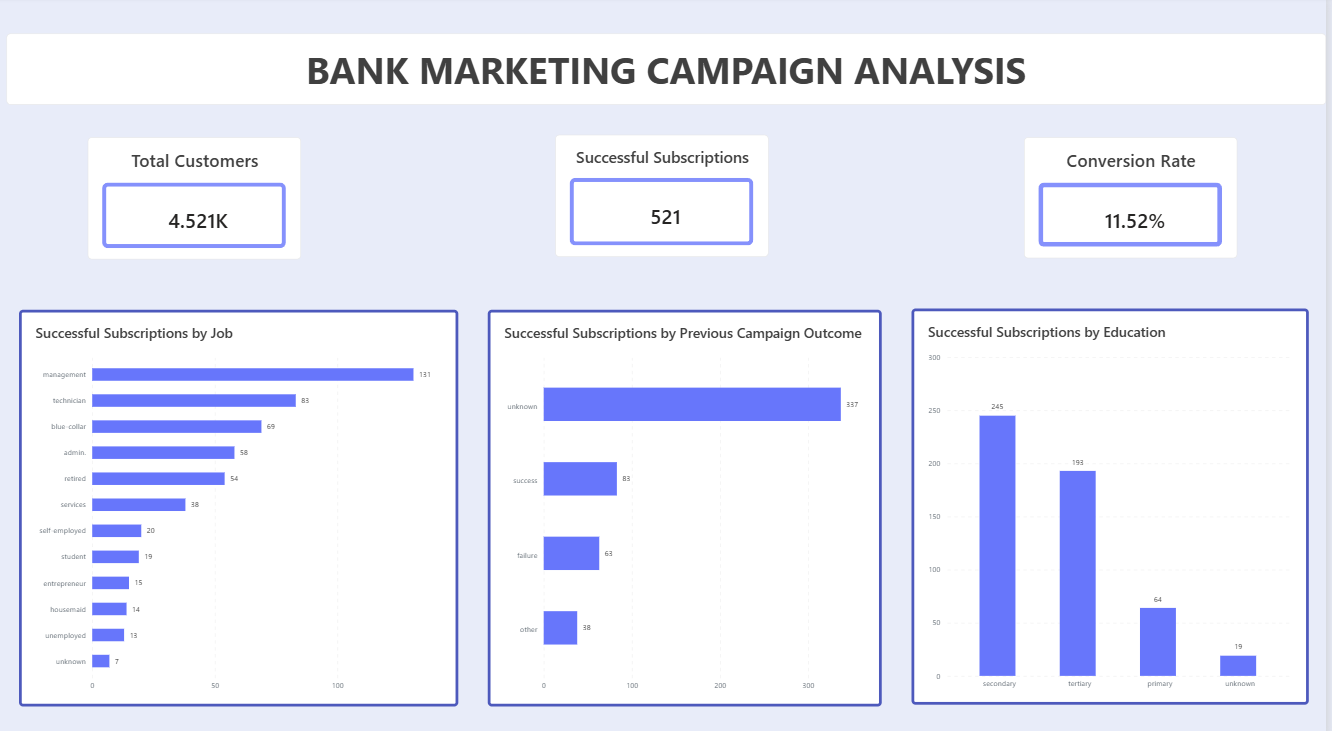

The page's visual inventory and layout, read from the dashboard file:
{"tool":"powerbi","page":{"name":"Page 1","canvas":[1920,1080],"ordinal":0},"visuals":[{"type":"cardVisual","title":"Total Customers","fields":{"Data":["CountNonNull(bank.age)"]},"box":[127.6,203.8,308.7,177],"z":0},{"type":"cardVisual","title":"Successful Subscriptions","fields":{"Data":["bank.Successful Subscriptions"]},"box":[804.8,201.7,308.7,177],"z":1},{"type":"cardVisual","title":"Conversion Rate","fields":{"Data":["bank.Conversion Rate"]},"box":[1484.1,203.8,308.7,175],"z":2},{"type":"clusteredBarChart","title":"Successful Subscriptions by Job","fields":{"Category":["bank.job"],"Y":["bank.Successful Subscriptions"]},"box":[28.5,453.7,636,574.3],"z":3},{"type":"clusteredColumnChart","title":"Successful Subscriptions by Education","fields":{"Category":["bank.education"],"Y":["bank.Successful Subscriptions"]},"box":[1321.1,452.4,575.5,573.7],"z":4},{"type":"clusteredBarChart","title":"Successful Subscriptions by Previous Campaign Outcome","fields":{"Category":["bank.poutcome"],"Y":["bank.Successful Subscriptions"]},"box":[707.6,454.2,570.2,574.3],"z":5},{"type":"textbox","box":[10.3,53.5,1910.1,102.9],"z":6}]}

Visuals, with their boxes in screenshot pixels (x1, y1, x2, y2), scaled from the page's 1920x1080 canvas onto the 1332x731 screenshot:
"Total Customers" cardVisual: rect(89, 138, 303, 258)
"Successful Subscriptions" cardVisual: rect(558, 137, 772, 256)
"Conversion Rate" cardVisual: rect(1030, 138, 1244, 256)
"Successful Subscriptions by Job" clusteredBarChart: rect(20, 307, 461, 696)
"Successful Subscriptions by Education" clusteredColumnChart: rect(917, 306, 1316, 695)
"Successful Subscriptions by Previous Campaign Outcome" clusteredBarChart: rect(491, 307, 886, 696)
textbox: rect(7, 36, 1331, 106)
